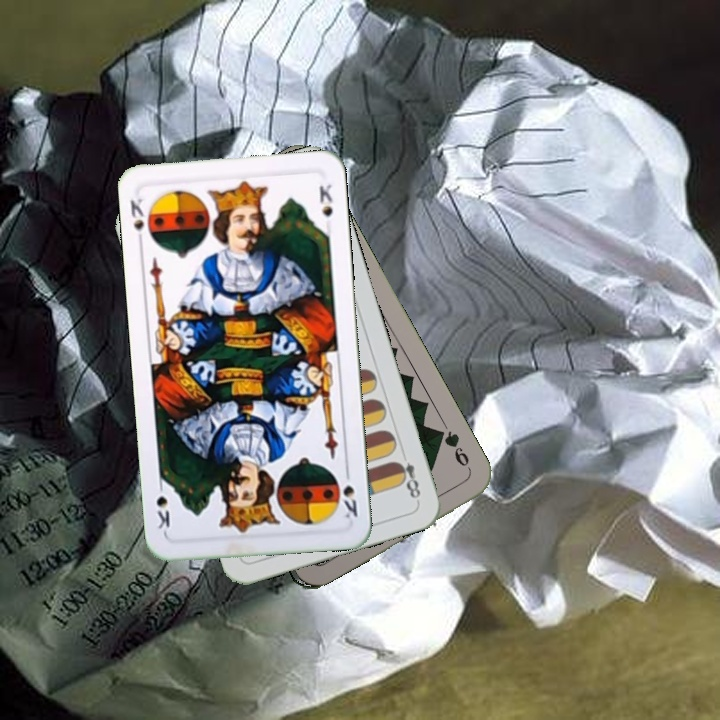E8: (391, 457, 423, 504)
G9: (432, 425, 475, 475)
SK: (333, 464, 360, 521), (126, 194, 147, 248)
